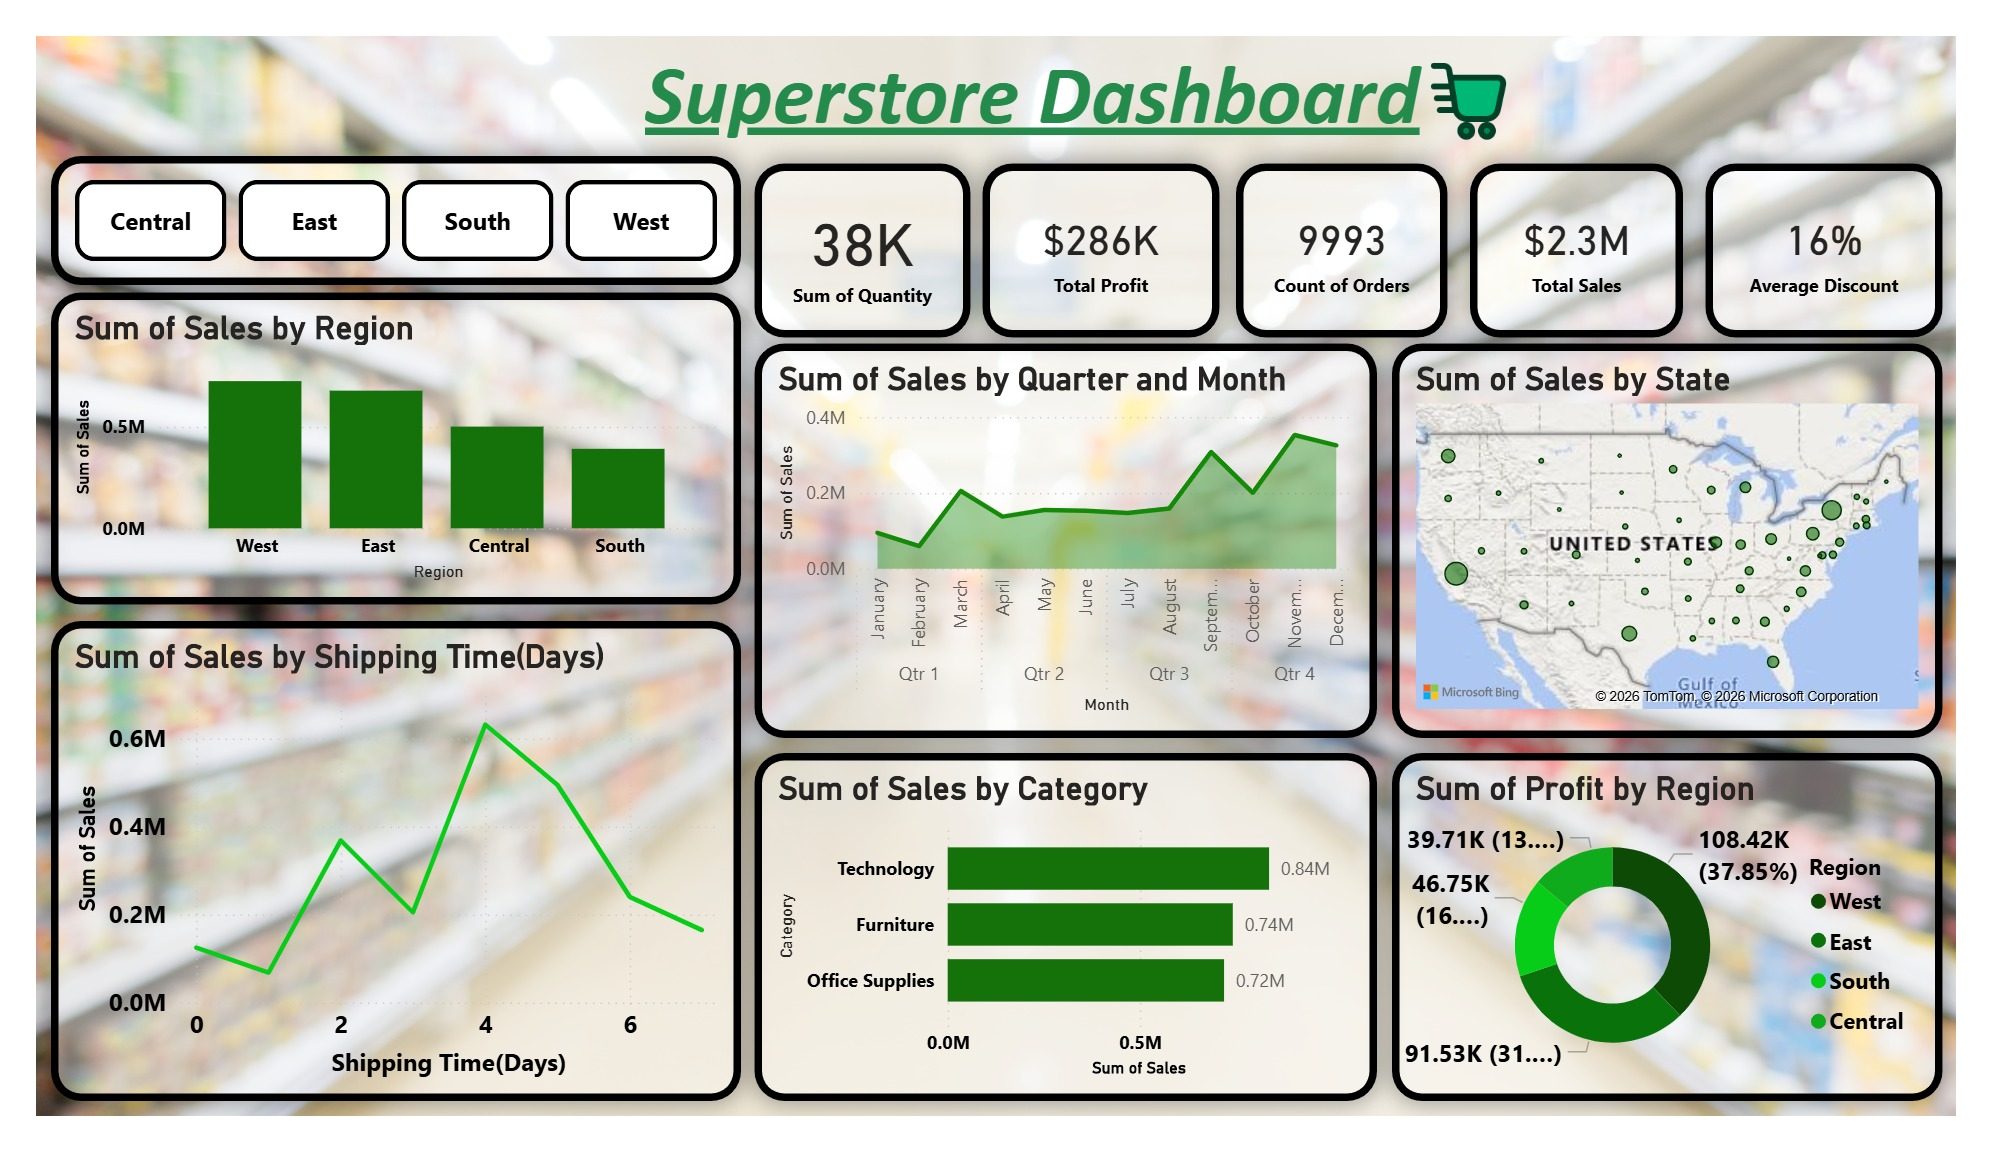

The page's visual inventory and layout, read from the dashboard file:
{"tool":"powerbi","page":{"name":"Page 1","canvas":[1280,720],"ordinal":0},"visuals":[{"type":"columnChart","fields":{"Y":["Sum(Orders.Sales)"],"Category":["Orders.Region"]},"box":[10,171.2,460,207.5],"z":0},{"type":"donutChart","fields":{"Category":["Orders.Region"],"Y":["Sum(Orders.Profit)"]},"box":[903.8,477.5,367.5,232.5],"z":1000},{"type":"textbox","box":[401.4,0,540,80],"z":2000},{"type":"image","box":[857.1,7.1,197.1,72.9],"z":3000},{"type":"card","fields":{"Values":["Sum(Orders.Quantity)"]},"box":[478.8,85,143.8,116.2],"z":4000},{"type":"lineChart","fields":{"Y":["Sum(Orders.Sales)"],"Category":["Orders.Shipping Time"]},"box":[10,390,460,320],"z":5000},{"type":"map","fields":{"Category":["Orders.State"],"Size":["Sum(Orders.Sales)"]},"box":[903.8,205,367.5,262.5],"z":6000},{"type":"clusteredBarChart","fields":{"Category":["Orders.Category"],"Y":["Sum(Orders.Sales)"]},"box":[478.8,477.5,415,232.5],"z":7000},{"type":"card","fields":{"Values":["Orders.Total Profit"]},"box":[631.2,85,157.5,116.2],"z":8000},{"type":"stackedAreaChart","fields":{"Y":["Sum(Orders.Sales)"],"Category":["Orders.Order_Date.Variation.Date Hierarchy.Quarter","Orders.Order_Date.Variation.Date Hierarchy.Month"]},"box":[478.8,205,415,262.5],"z":9000},{"type":"card","fields":{"Values":["CountNonNull(Orders.Order_ID)"]},"box":[800,85,141.2,116.2],"z":10000},{"type":"advancedSlicerVisual","fields":{"Values":["Orders.Region"]},"box":[10,80,460,86.2],"z":11000},{"type":"card","fields":{"Values":["Orders.Total Sales"]},"box":[956.2,85,141.2,116.2],"z":12000},{"type":"card","fields":{"Values":["Orders.Average Discount"]},"box":[1112.5,85,158.8,116.2],"z":13000}]}

Visuals, with their boxes in screenshot pixels (x1, y1, x2, y2), scaled from the page's 1280x720 canvas onto the 1992x1152 screenshot:
columnChart - Sum(Orders.Sales) x Orders.Region: box(16, 274, 731, 606)
donutChart - Orders.Region x Sum(Orders.Profit): box(1407, 764, 1978, 1136)
textbox: box(625, 0, 1465, 128)
image: box(1334, 11, 1641, 128)
card - Sum(Orders.Quantity): box(745, 136, 969, 322)
lineChart - Sum(Orders.Sales) x Orders.Shipping Time: box(16, 624, 731, 1136)
map - Orders.State x Sum(Orders.Sales): box(1407, 328, 1978, 748)
clusteredBarChart - Orders.Category x Sum(Orders.Sales): box(745, 764, 1391, 1136)
card - Orders.Total Profit: box(982, 136, 1227, 322)
stackedAreaChart - Sum(Orders.Sales) x Orders.Order_Date.Variation.Date Hierarchy.Quarter: box(745, 328, 1391, 748)
card - CountNonNull(Orders.Order_ID): box(1245, 136, 1465, 322)
advancedSlicerVisual - Orders.Region: box(16, 128, 731, 266)
card - Orders.Total Sales: box(1488, 136, 1708, 322)
card - Orders.Average Discount: box(1731, 136, 1978, 322)
